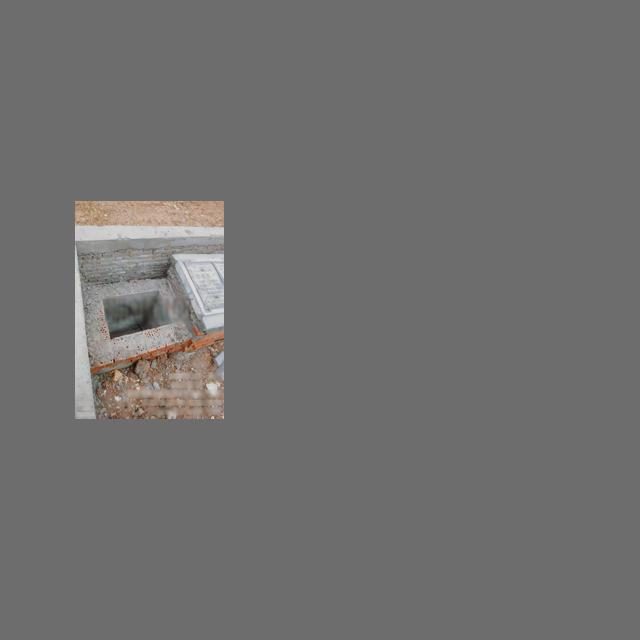lose: (102, 289, 174, 340)
